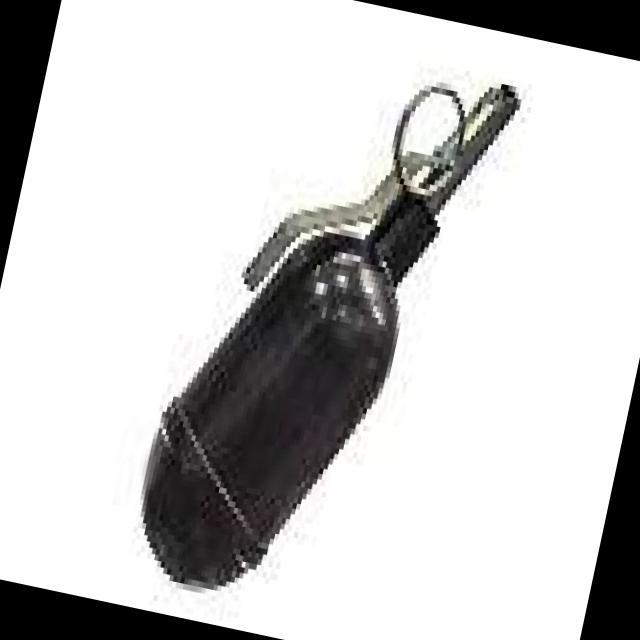grenade: (110, 22, 526, 634)
